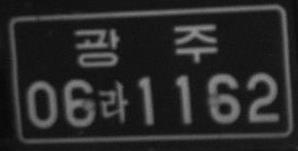0: (26, 80, 58, 130)
1: (167, 74, 199, 125), (132, 75, 162, 127)
2: (246, 71, 280, 124)
6: (206, 72, 242, 125), (63, 77, 96, 129)
광주_D: (73, 24, 219, 67)
라: (98, 80, 128, 123)
